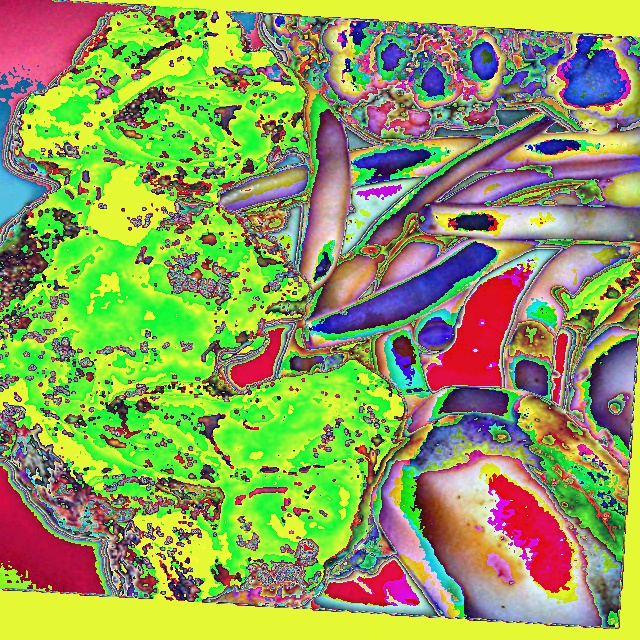background: (0, 7, 640, 628)
